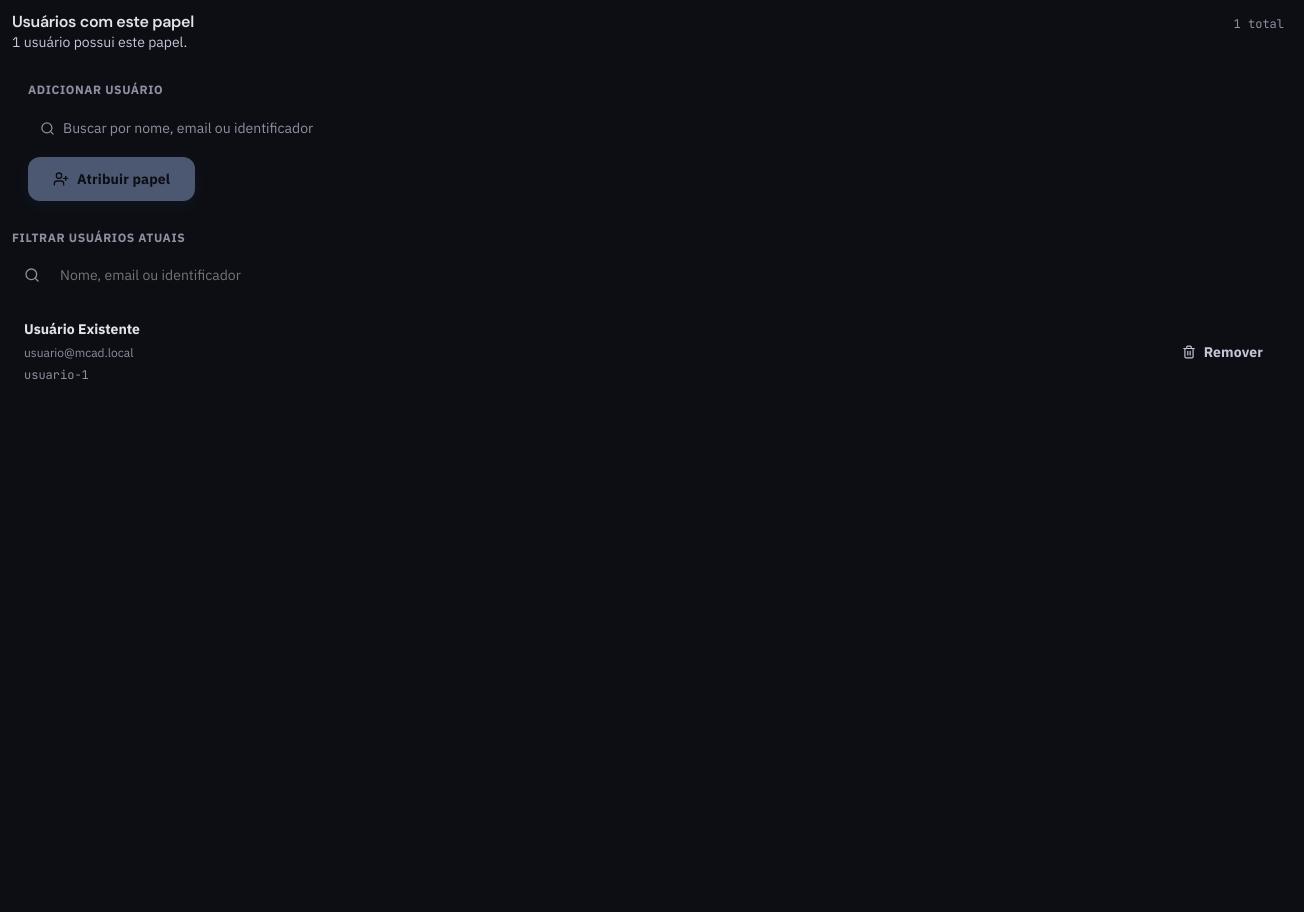
Test: RoleUsersTab › assigns a new user to the role through the role-centric flow
Expected: the text "Usuário Existente" is shown, [24,320,140,338]
Type "novo" into the dropdown labelled "Adicionar usuário" at [652, 128], box [28,111,1276,145]
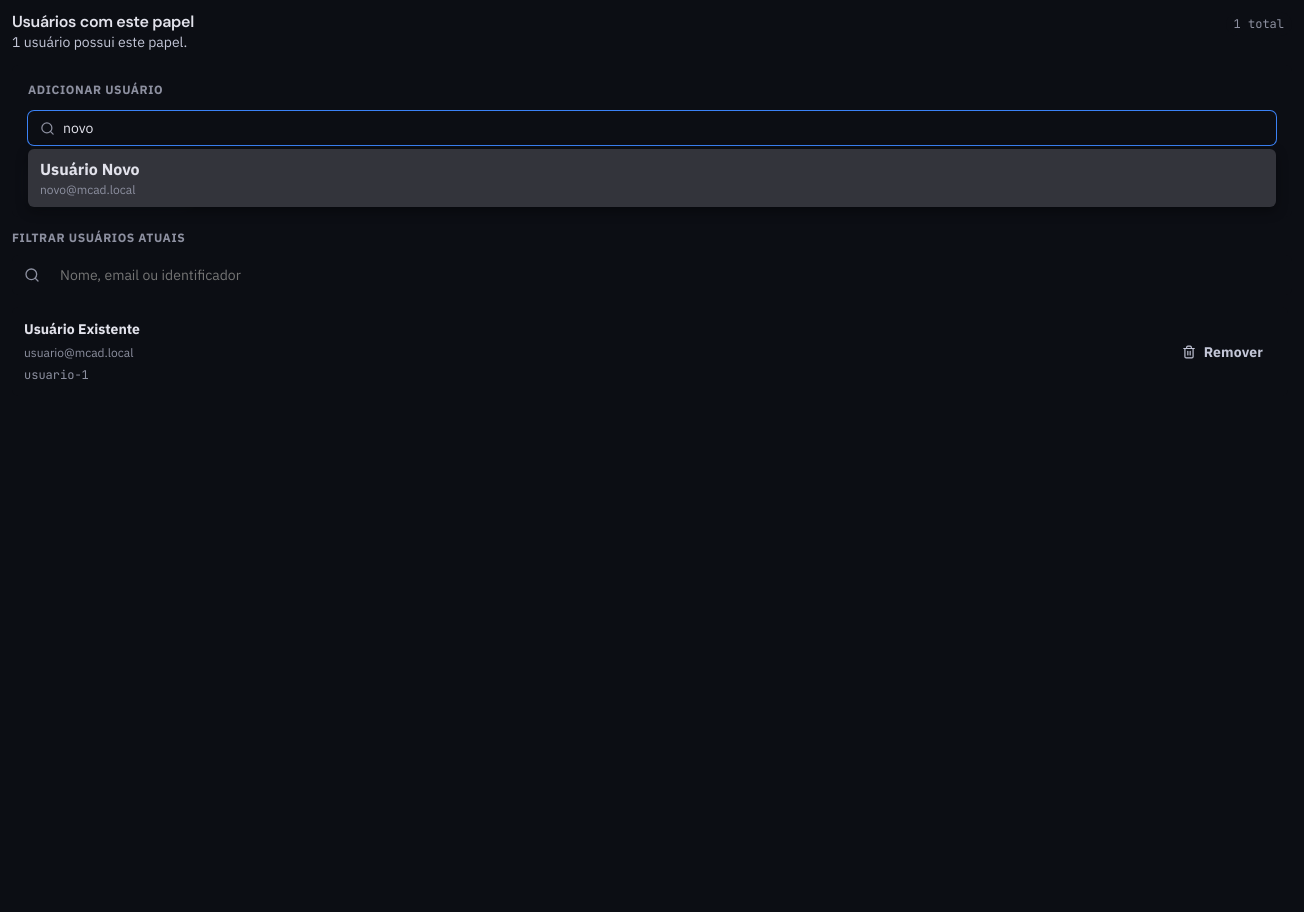
Click the text "Usuário Novo" at [90, 169], box [40,159,140,179]
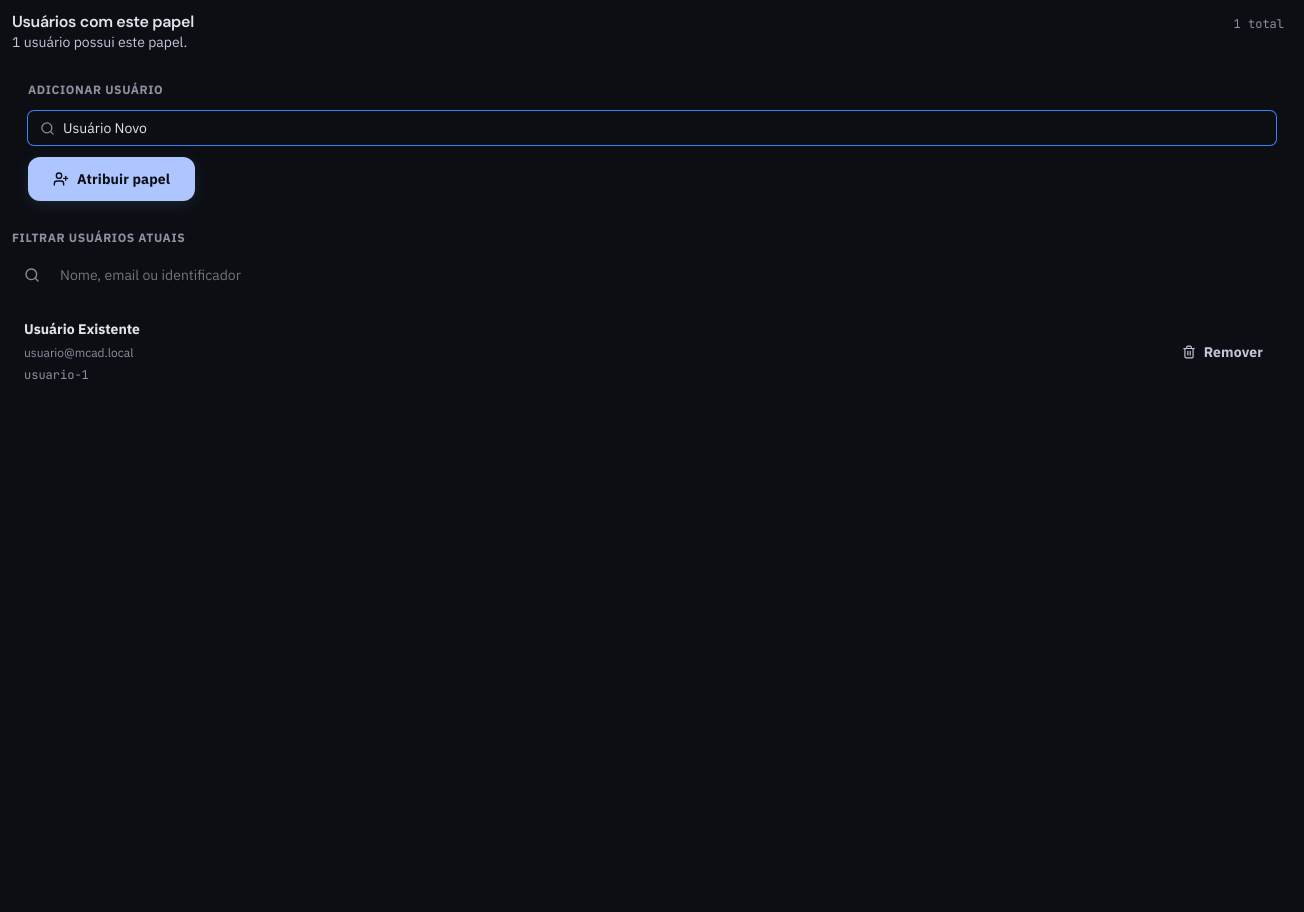
Click the button "Atribuir papel" at [112, 179], box [28,157,195,201]
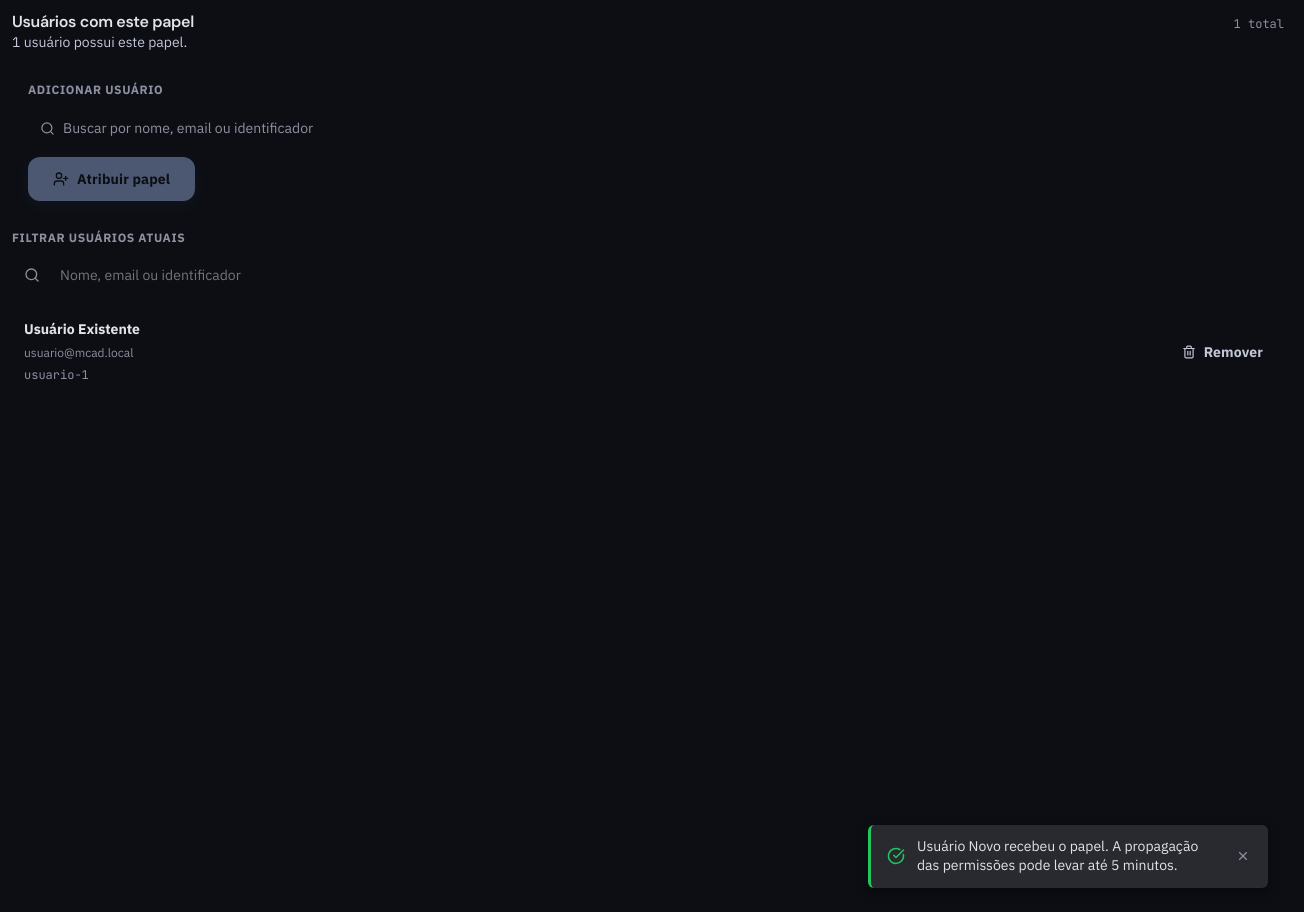
Result: the text "recebeu o papel" is shown at [917,837,1198,874]
